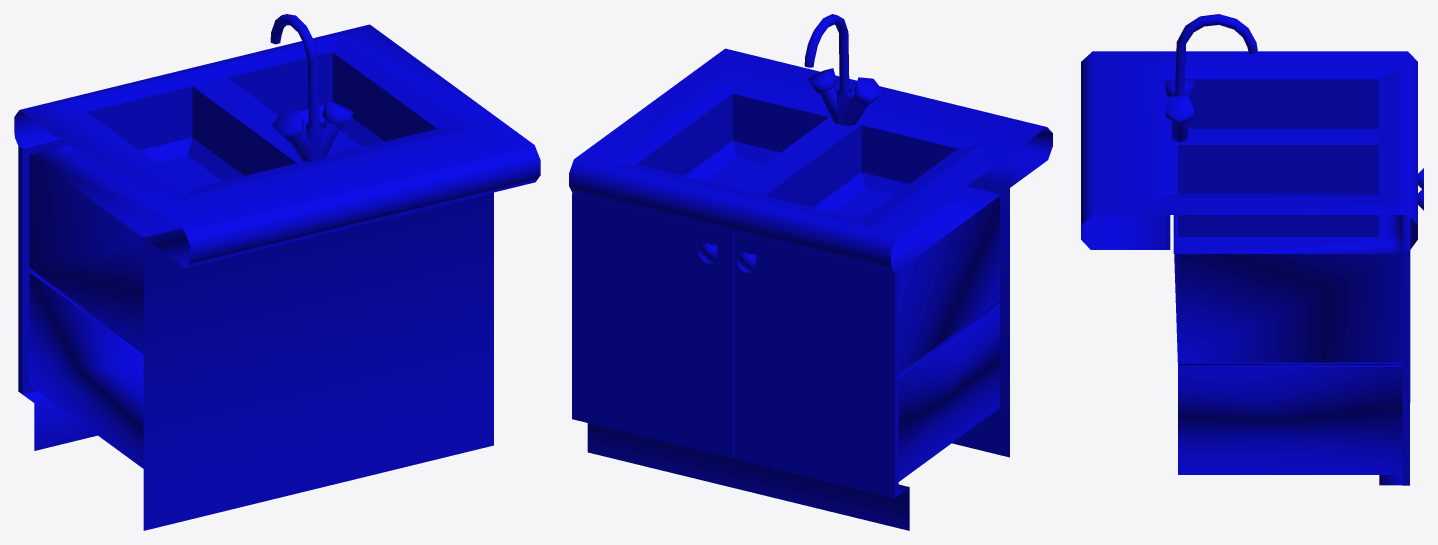
File: Object_IslandCounterMid.fbx
3 renders of one model, left to right at view 1: azimuth 30°, elevation 25°; view 2: azimuth 150°, elevation 25°; view 3: azimuth 270°, elevation 25°, orthographic. The views are drawn at different scales.
Visible parts, largest first — view 1: IslandCounterMid_Body_LOW, SinkTubs_LOW, SinkTaps_LOW, IslandCounterMid_RightDoor_LOW; view 2: IslandCounterMid_Body_LOW, IslandCounterMid_RightDoor_LOW, IslandCounterMid_LeftDoor_LOW, SinkTubs_LOW, SinkTaps_LOW; view 3: IslandCounterMid_Body_LOW, SinkTubs_LOW, SinkTaps_LOW, IslandCounterMid_LeftDoor_LOW.
Boxes of the visible parts, left/top/right/bottom form: IslandCounterMid_Body_LOW: left=14, top=24, right=540, bottom=530; SinkTubs_LOW: left=60, top=36, right=464, bottom=196; SinkTaps_LOW: left=270, top=14, right=353, bottom=161; IslandCounterMid_RightDoor_LOW: left=18, top=137, right=120, bottom=394; IslandCounterMid_Body_LOW: left=569, top=48, right=1052, bottom=530; IslandCounterMid_RightDoor_LOW: left=734, top=233, right=898, bottom=497; IslandCounterMid_LeftDoor_LOW: left=572, top=193, right=733, bottom=458; SinkTubs_LOW: left=611, top=79, right=982, bottom=226; SinkTaps_LOW: left=804, top=14, right=883, bottom=125; IslandCounterMid_Body_LOW: left=1081, top=51, right=1417, bottom=485; SinkTubs_LOW: left=1158, top=67, right=1398, bottom=236; SinkTaps_LOW: left=1164, top=14, right=1257, bottom=142; IslandCounterMid_LeftDoor_LOW: left=1402, top=188, right=1423, bottom=485.
Size of the model in its own units: 1 by 1.24 by 0.8855.
